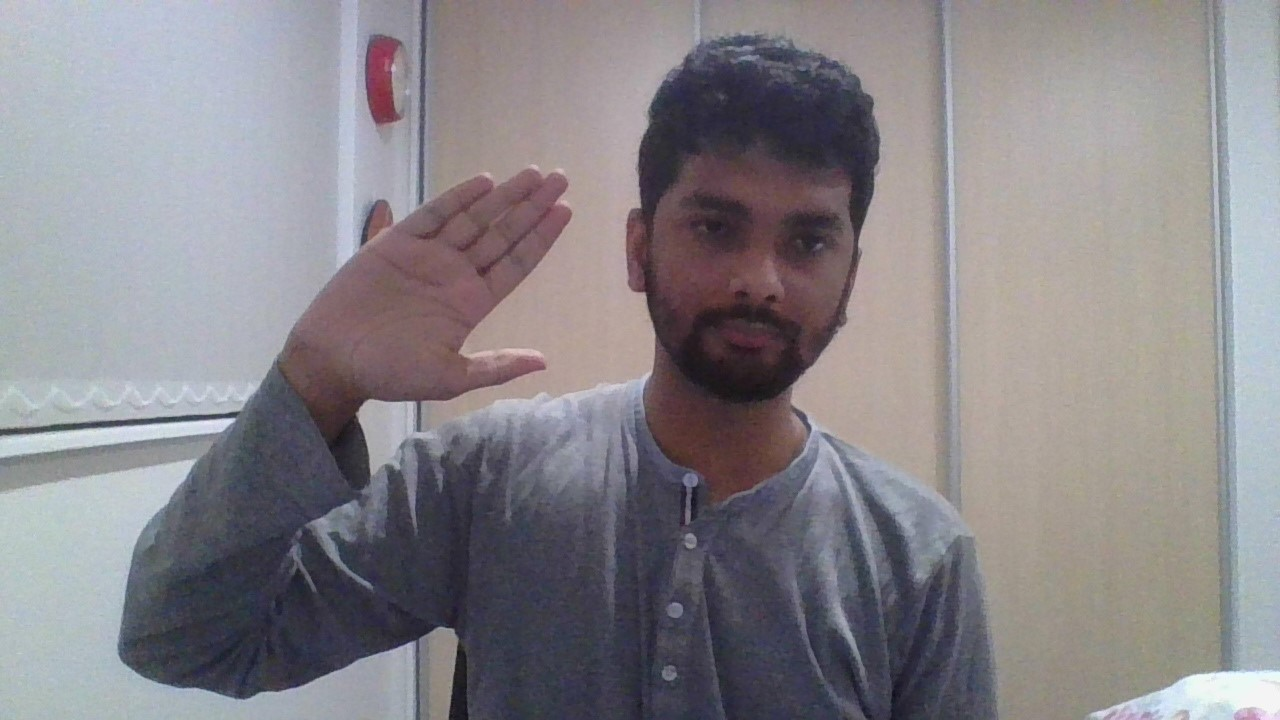hello: (291, 166, 574, 403)
